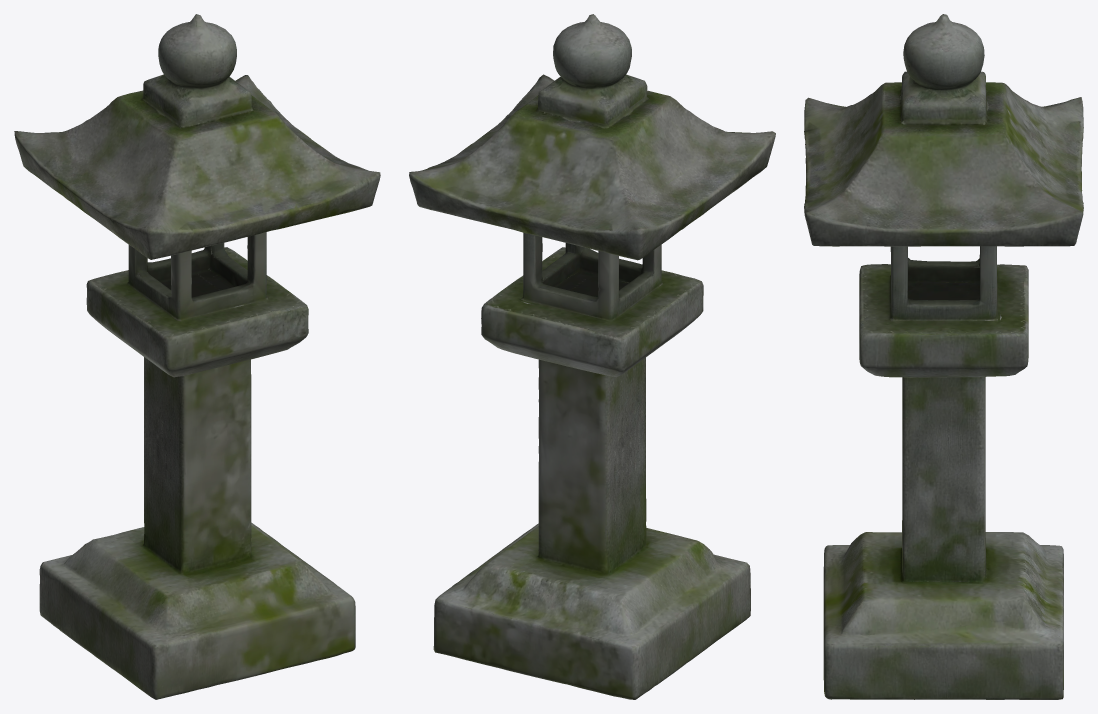
The model's file is stone-lantern-optimized.glb.
3 renders of one model, left to right at view 1: azimuth 30°, elevation 25°; view 2: azimuth 150°, elevation 25°; view 3: azimuth 270°, elevation 25°, orthographic. The views are drawn at different scales.
Parts seen in each view (by area): view 1: Mesh_0; view 2: Mesh_0; view 3: Mesh_0.
Part boxes in pixels (x1,y1,x2,y2): Mesh_0: [14, 14, 380, 699]; Mesh_0: [409, 14, 775, 699]; Mesh_0: [804, 14, 1083, 699].
Bounding box in the file's own units: 0.7996 × 2 × 0.7982.
1 material, 1 textured.
